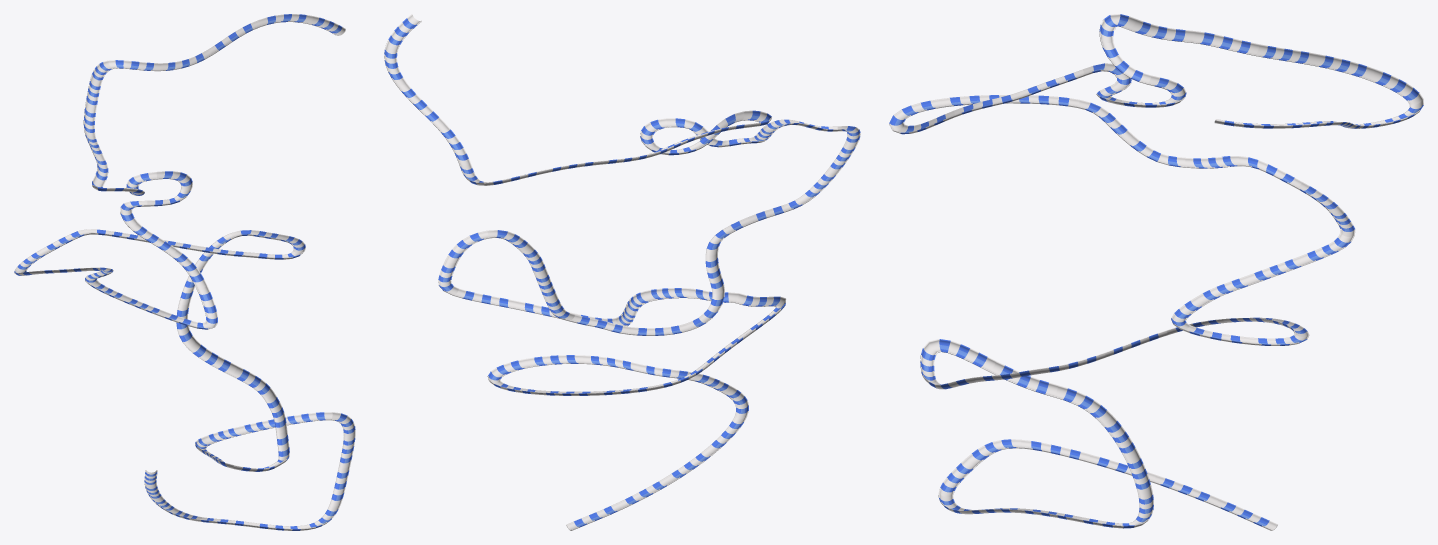
The model's file is _lider1.fbx.
3 views of the same model, side by side, from view 1: azimuth 30°, elevation 25°; view 2: azimuth 150°, elevation 25°; view 3: azimuth 270°, elevation 25° (orthographic). The views are drawn at different scales.
Visible parts, largest first — view 1: kaydırak1; view 2: kaydırak1; view 3: kaydırak1.
Boxes of the visible parts, x1,y1,x2,y2 form: kaydırak1: (14,14,355,530); kaydırak1: (384,14,860,530); kaydırak1: (889,14,1423,530).
Bounding box in the file's own units: 1519 × 1926 × 1825.
